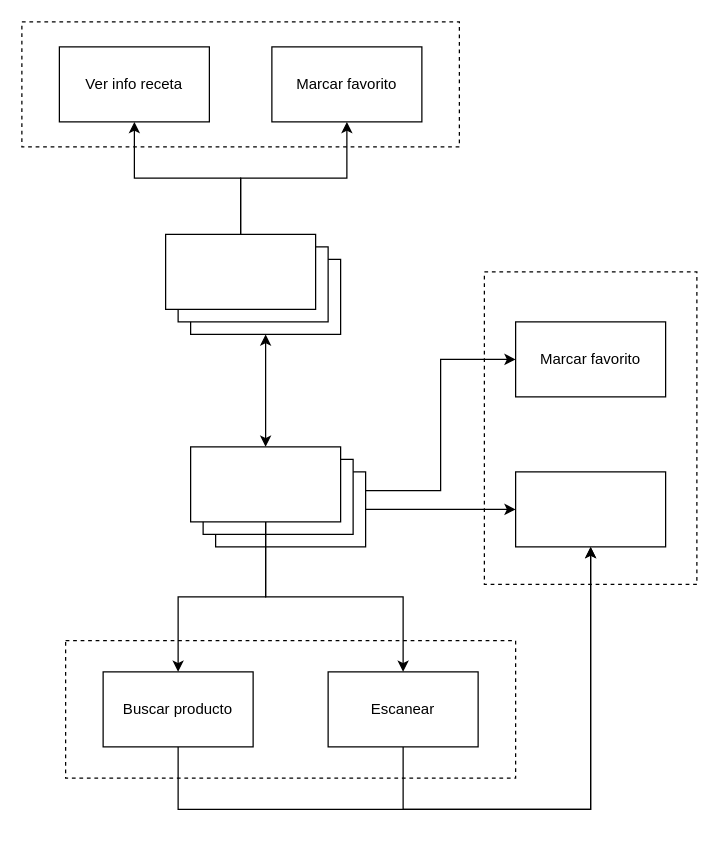
Image size: 719x841. Some labels were removed from this diagram. Each missing label, with the centre of its shape:
"Producto alimenticio" goes at (x=265, y=484).
"Receta" goes at (x=240, y=271).
"Ver info producto" goes at (x=590, y=509).
